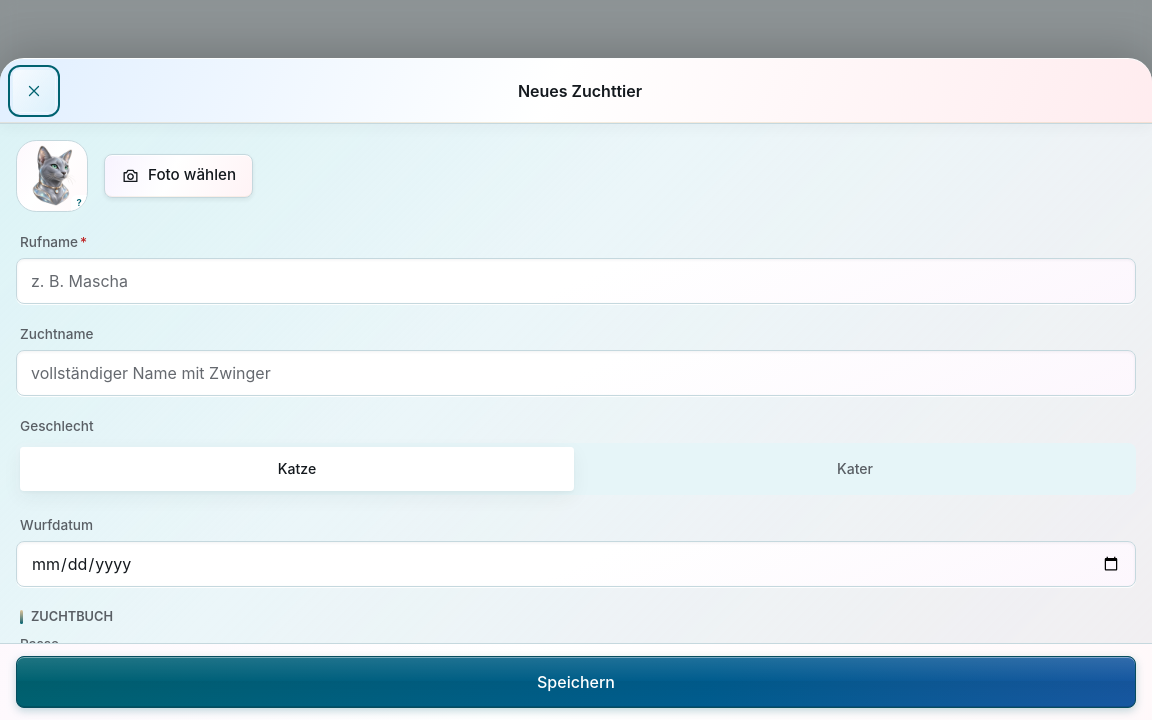
Test: CatEditorSheet › lässt einen Ahnenverlust außerhalb von 0 bis 100 nicht durch
Type "Test" into the field labelled "Rufname*". click: (576, 281)
box: x1=16 y1=258 x2=1136 y2=304
(page scrolled)
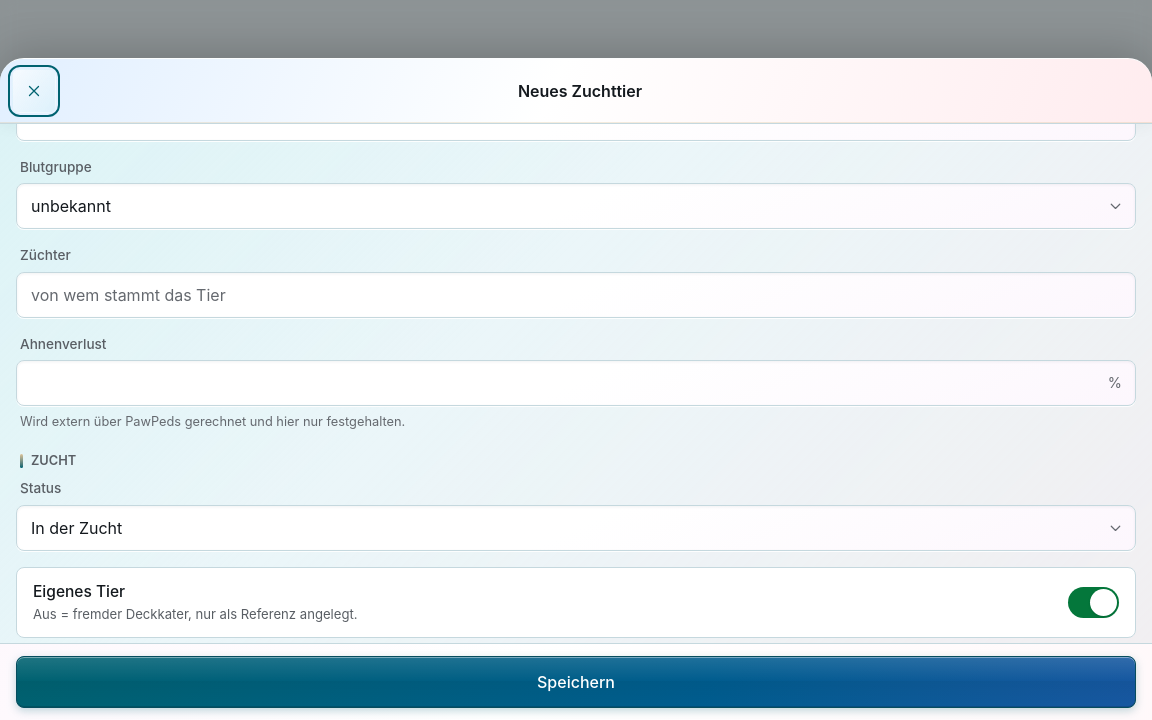
Type "150" into the field labelled "Ahnenverlust". click: (576, 383)
box: x1=16 y1=360 x2=1136 y2=406
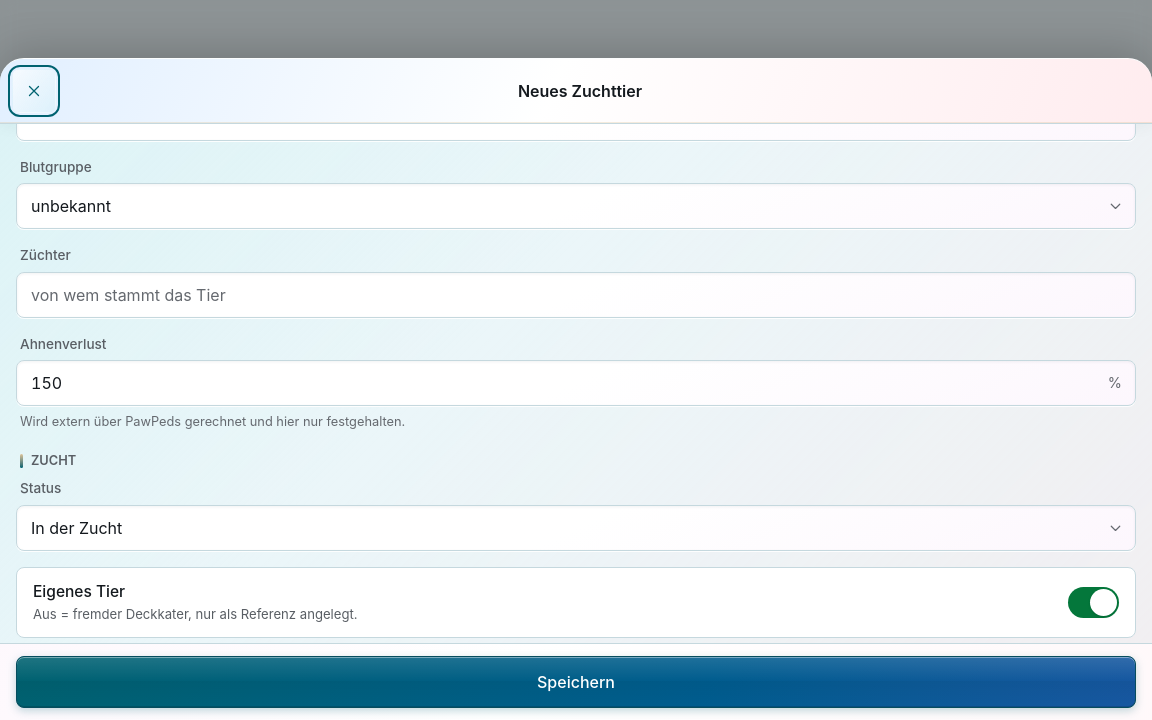
Click the button "Speichern". click: click(576, 682)
box: x1=16 y1=656 x2=1136 y2=708
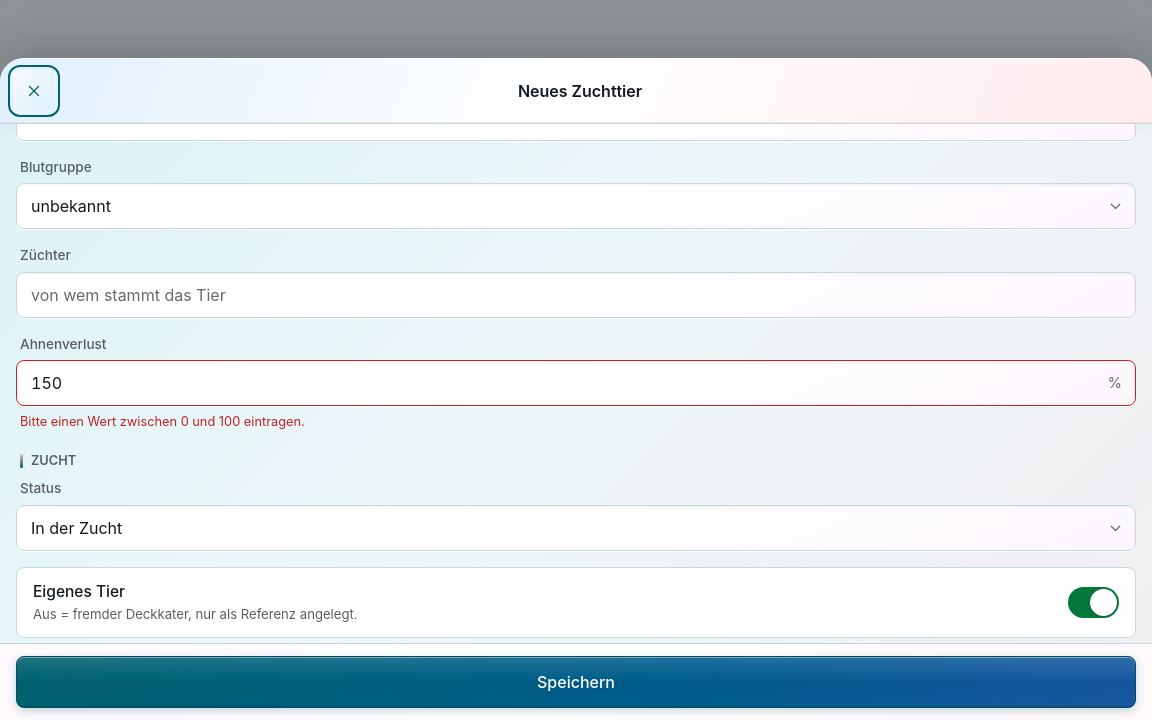
Now the message reads "Bitte einen Wert zwischen 0 und 100 eintragen.", box x1=20 y1=414 x2=305 y2=429
